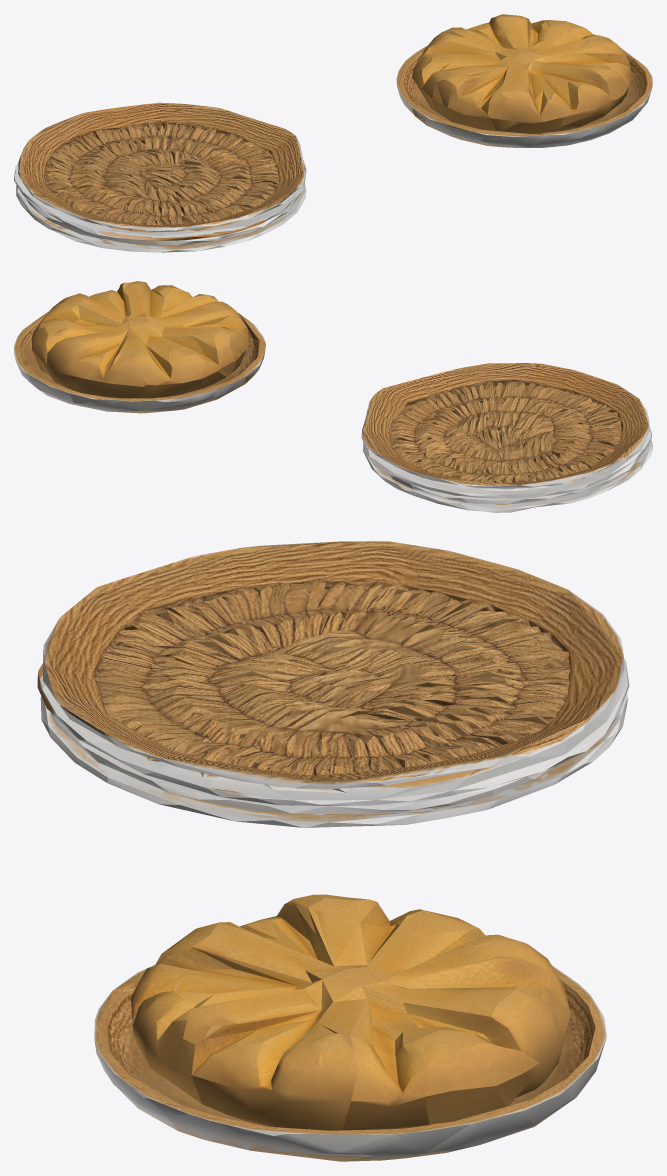
Rendered from picnic_blanket.glb.
3 renders of one model, top to bottom at view 1: azimuth 30°, elevation 25°; view 2: azimuth 150°, elevation 25°; view 3: azimuth 270°, elevation 25°, orthographic. The views are drawn at different scales.
Size of the model in its own units: 1.9 by 0.1618 by 0.8208.
1 material, 1 textured.
